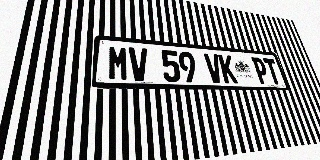5: (161, 50, 181, 82)
9: (178, 51, 198, 83)
K: (218, 54, 238, 83)
M: (108, 45, 129, 81)
P: (251, 57, 271, 84)
T: (263, 58, 282, 84)
V: (129, 47, 149, 81), (204, 53, 224, 83)
